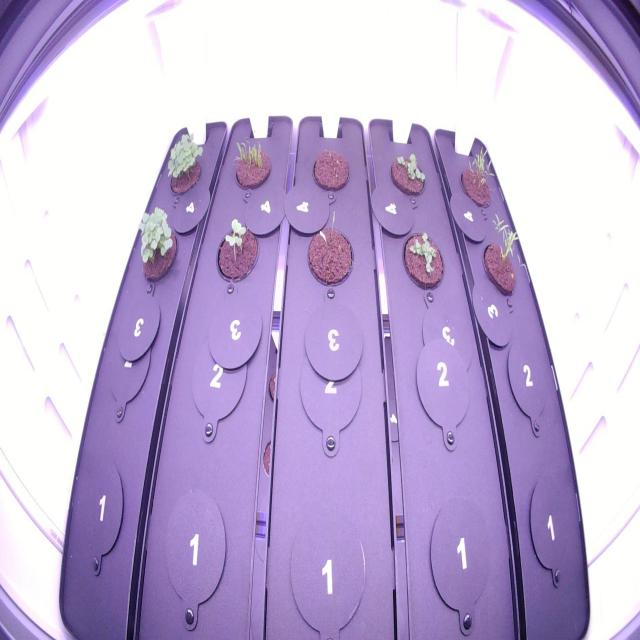empty_pod: (279, 495, 378, 634), (156, 486, 236, 632), (418, 494, 498, 620), (70, 451, 141, 590), (291, 332, 369, 441), (188, 324, 253, 429), (521, 470, 578, 588), (414, 333, 480, 433), (501, 333, 559, 440), (100, 316, 156, 407)
germination: (475, 206, 535, 303), (300, 201, 360, 298), (134, 192, 182, 290), (209, 210, 264, 294), (393, 221, 448, 304), (158, 122, 211, 207), (450, 137, 504, 214), (225, 128, 277, 200), (382, 140, 431, 210)
pod: (306, 140, 356, 200)
